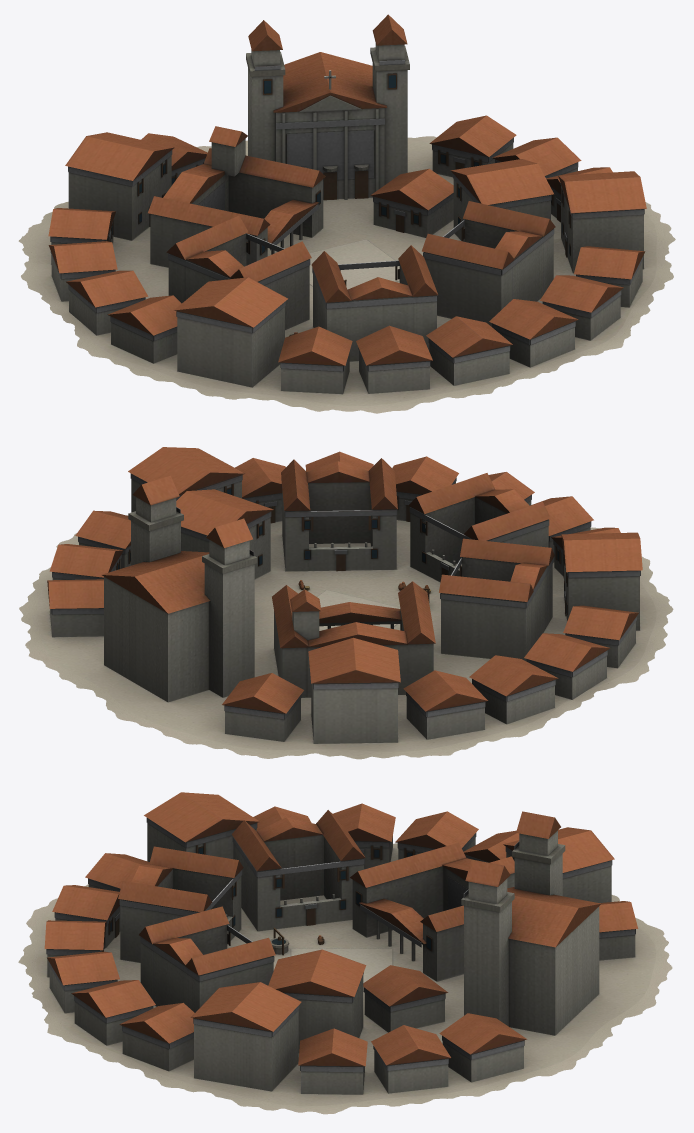
Rendered from gunpowder-town-big-b-americas.glb.
3 views of the same model, one above another, from view 1: azimuth 30°, elevation 25°; view 2: azimuth 150°, elevation 25°; view 3: azimuth 270°, elevation 25° (orthographic).
Visible parts, largest first — view 1: LOD0; view 2: LOD0; view 3: LOD0.
Boxes of the visible parts, x1,y1,x2,y2 form: LOD0: (18,14,675,413); LOD0: (19,447,673,759); LOD0: (18,792,672,1114).
Size of what is drawn, in the model's own units: 8.03 by 2.19 by 7.93.
Materials: 3 (3 with a texture image).
